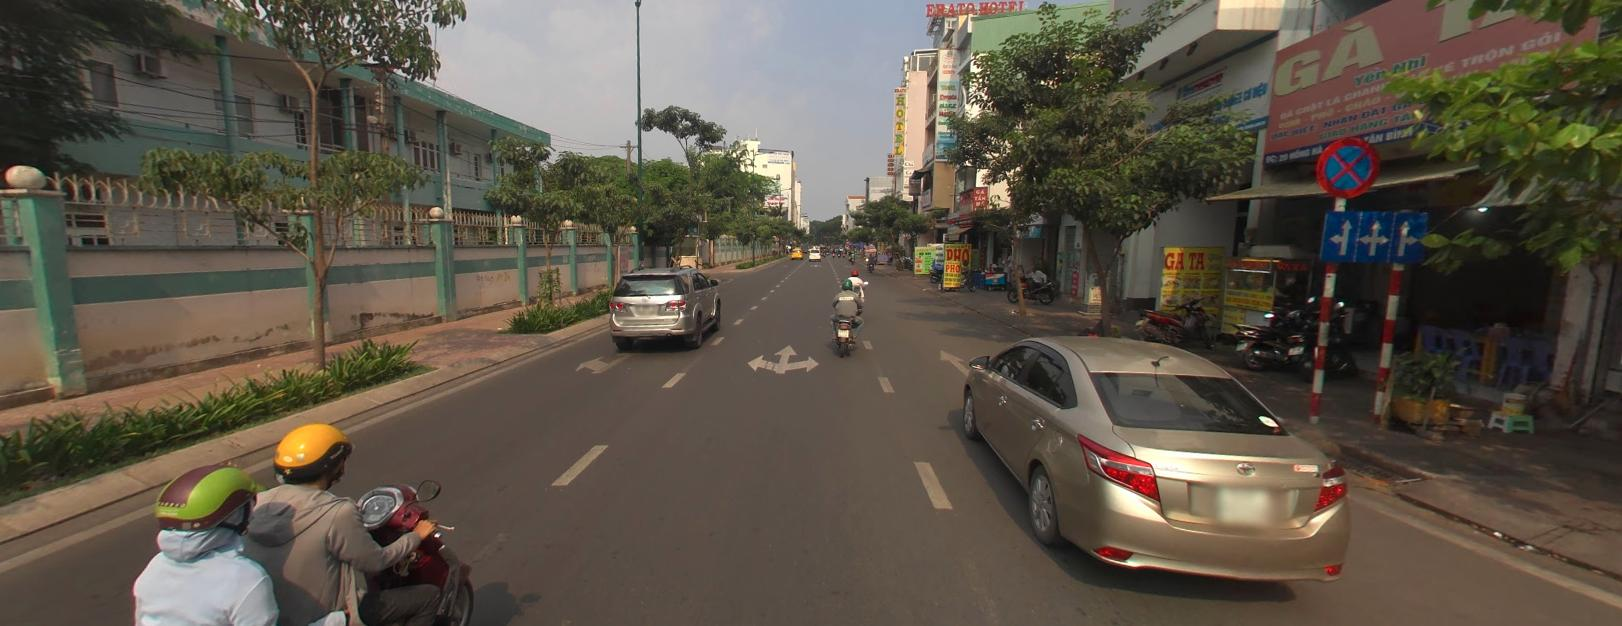Cam dung va do: (1316, 135, 1378, 193)
